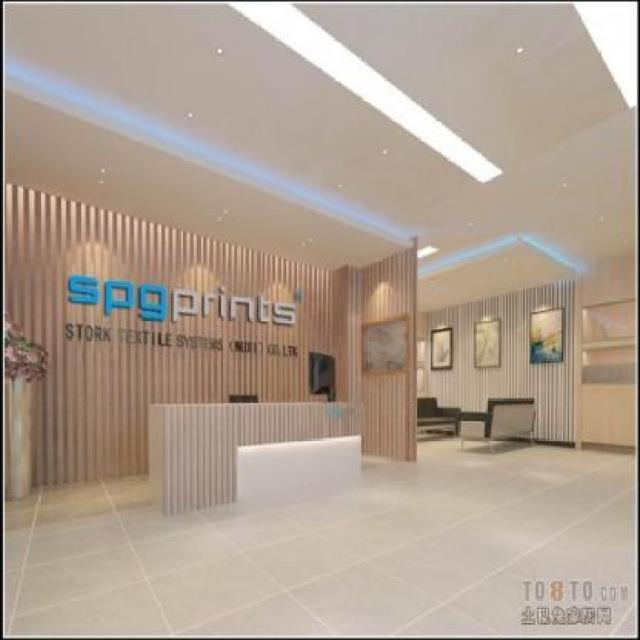frontdesk: (142, 394, 370, 518)
